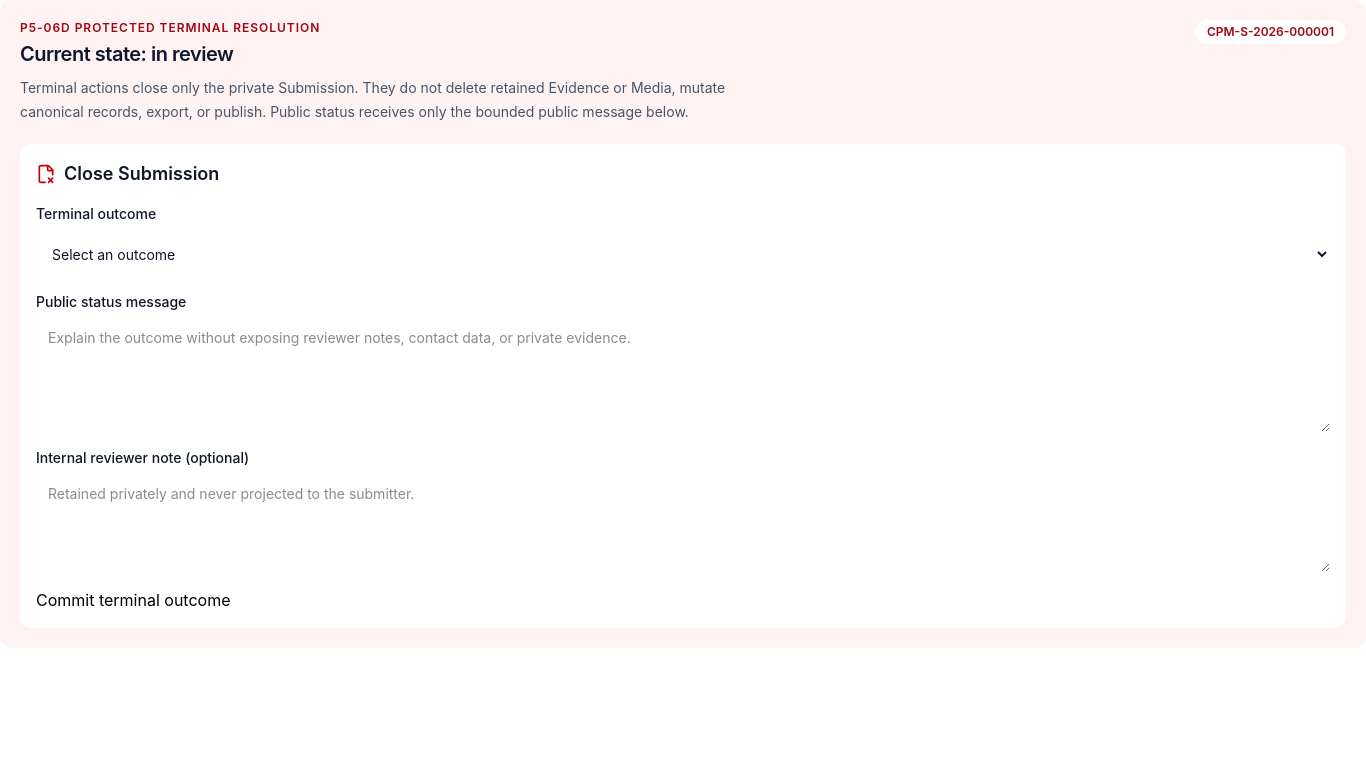
Test: P5-06D2 terminal-resolution controls › offers Photos duplicate, no-change, and withdrawal but reserves not-approved for P5-06E
Select "No change required" in the dropdown labelled "Terminal outcome" at (683, 254), box [36, 232, 1330, 276]
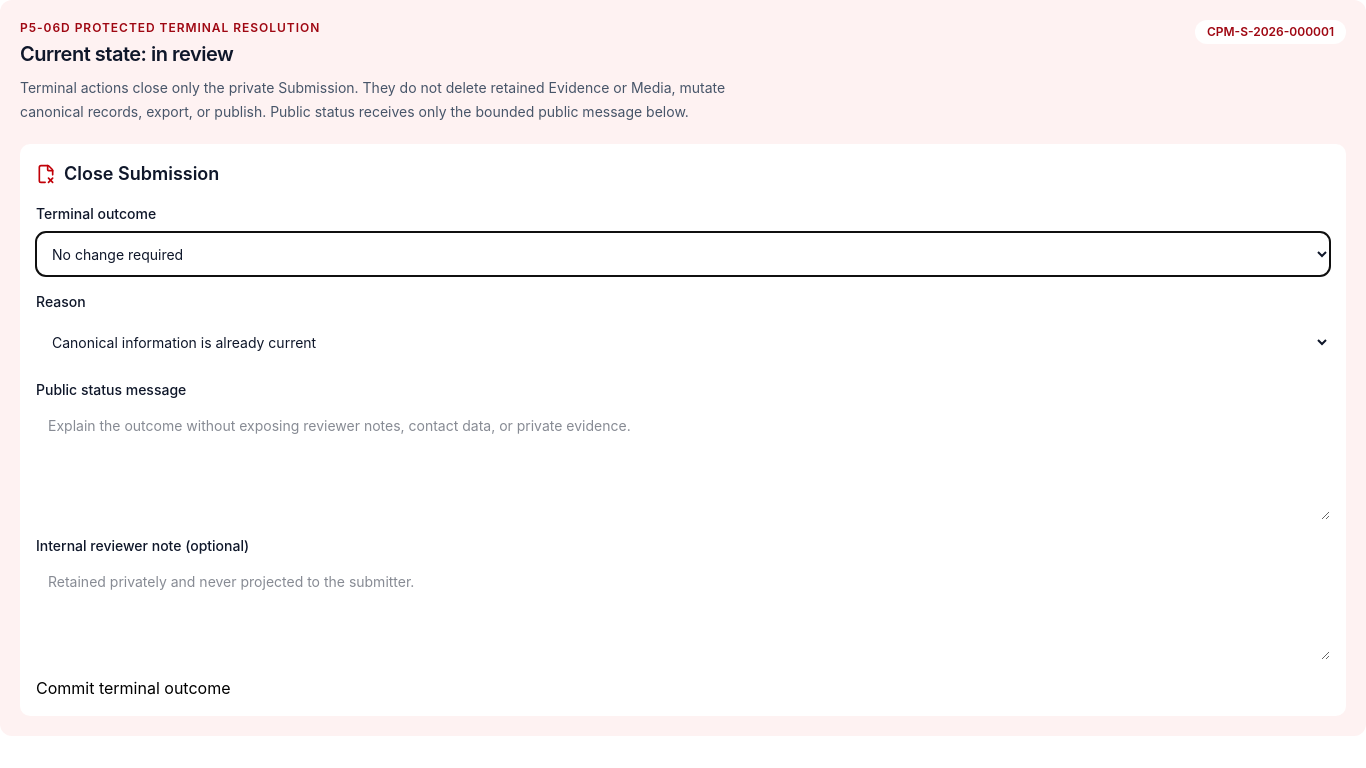
Type "The submitted photos require no public change." into the text box labelled "Public status message" at (683, 464), box [36, 408, 1330, 520]
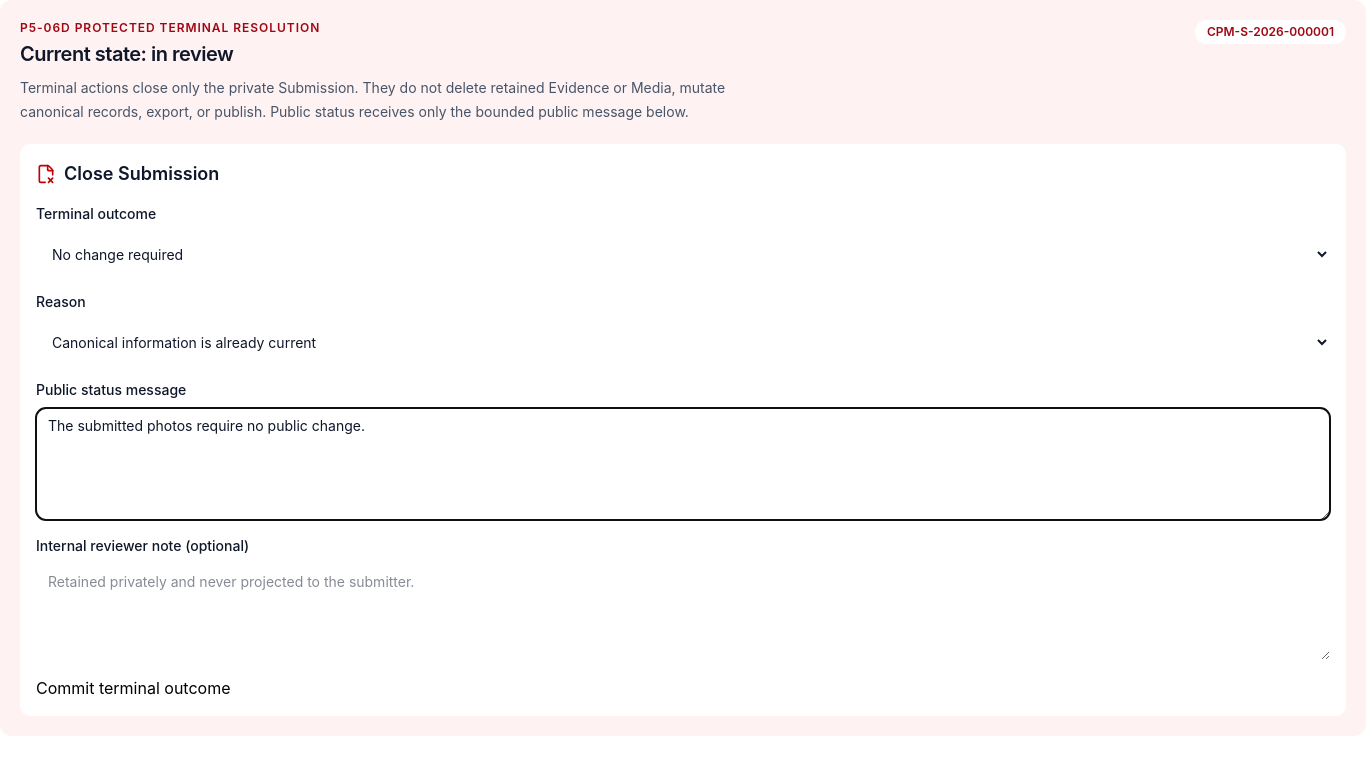
Click the button "Commit terminal outcome" at (133, 688), box [36, 676, 230, 700]
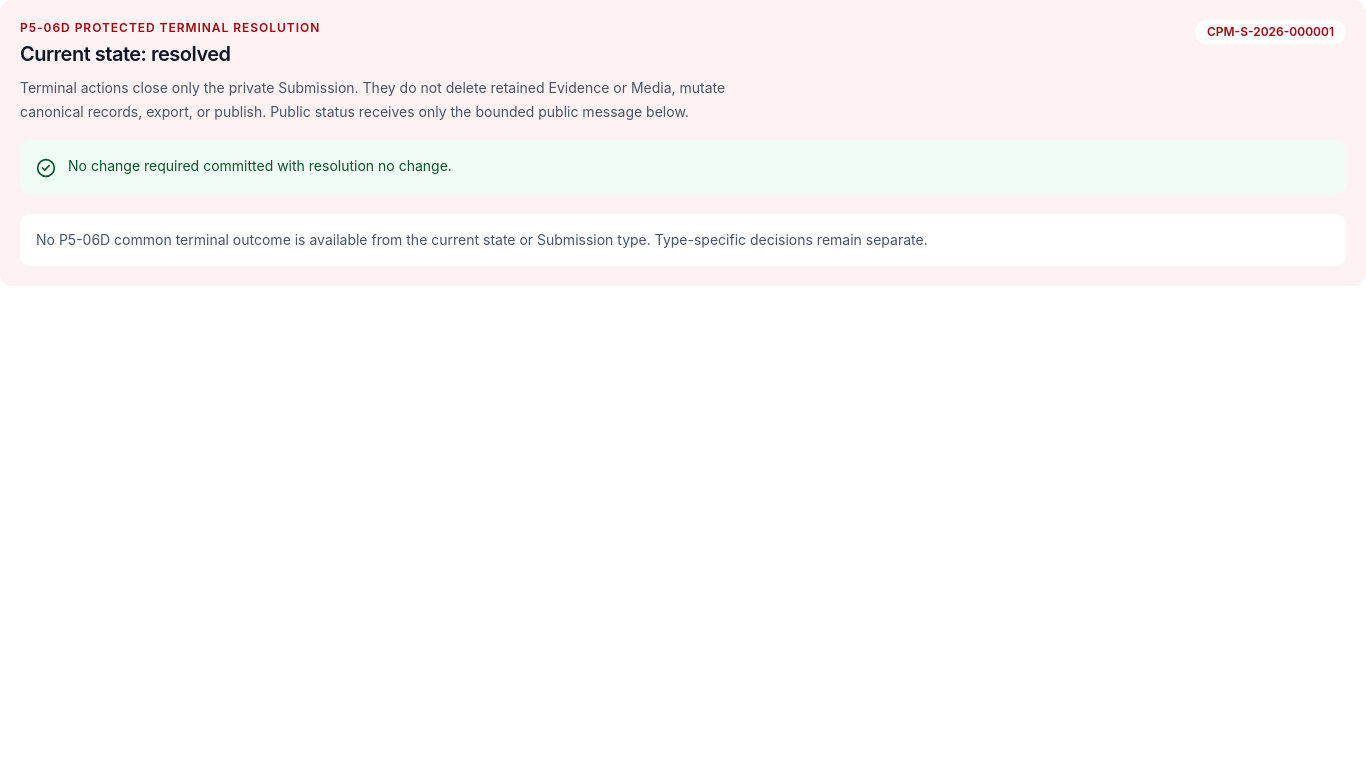
Expected: the text "No change required committed with resolution no change." is shown, [68, 156, 452, 176]
